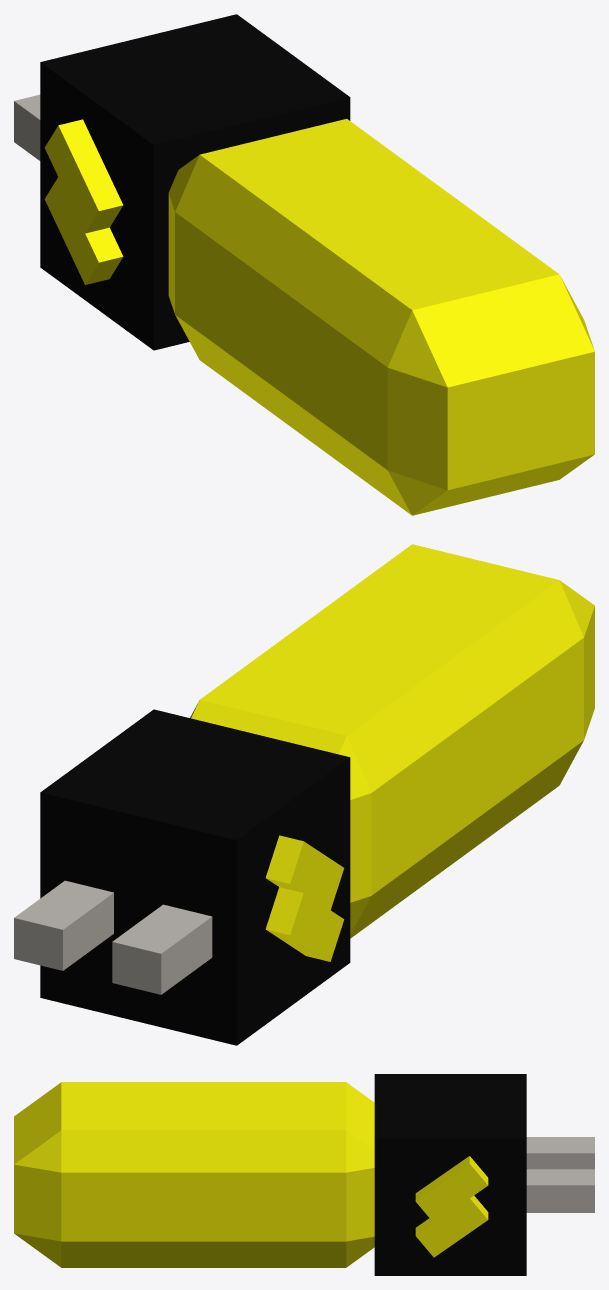
File: YellowArm.gltf
3 views of the same model, one above another, from view 1: azimuth 30°, elevation 25°; view 2: azimuth 150°, elevation 25°; view 3: azimuth 270°, elevation 25° (orthographic). The views are drawn at different scales.
Visible parts, largest first — view 1: beveled_cuboid, cuboid (×4); view 2: cuboid (×5), beveled_cuboid; view 3: beveled_cuboid, cuboid (×5).
Boxes of the visible parts, x1,y1,x2,y2 form: beveled_cuboid: (168, 119, 594, 515); cuboid (×4): (14, 14, 350, 350); cuboid (×5): (14, 709, 350, 1045); beveled_cuboid: (190, 544, 594, 938); beveled_cuboid: (14, 1082, 374, 1267); cuboid (×5): (374, 1074, 594, 1275).
Bounding box in the file's own units: 0.3125 × 0.25 × 0.9563.
Materials: 1 (1 with a texture image).
